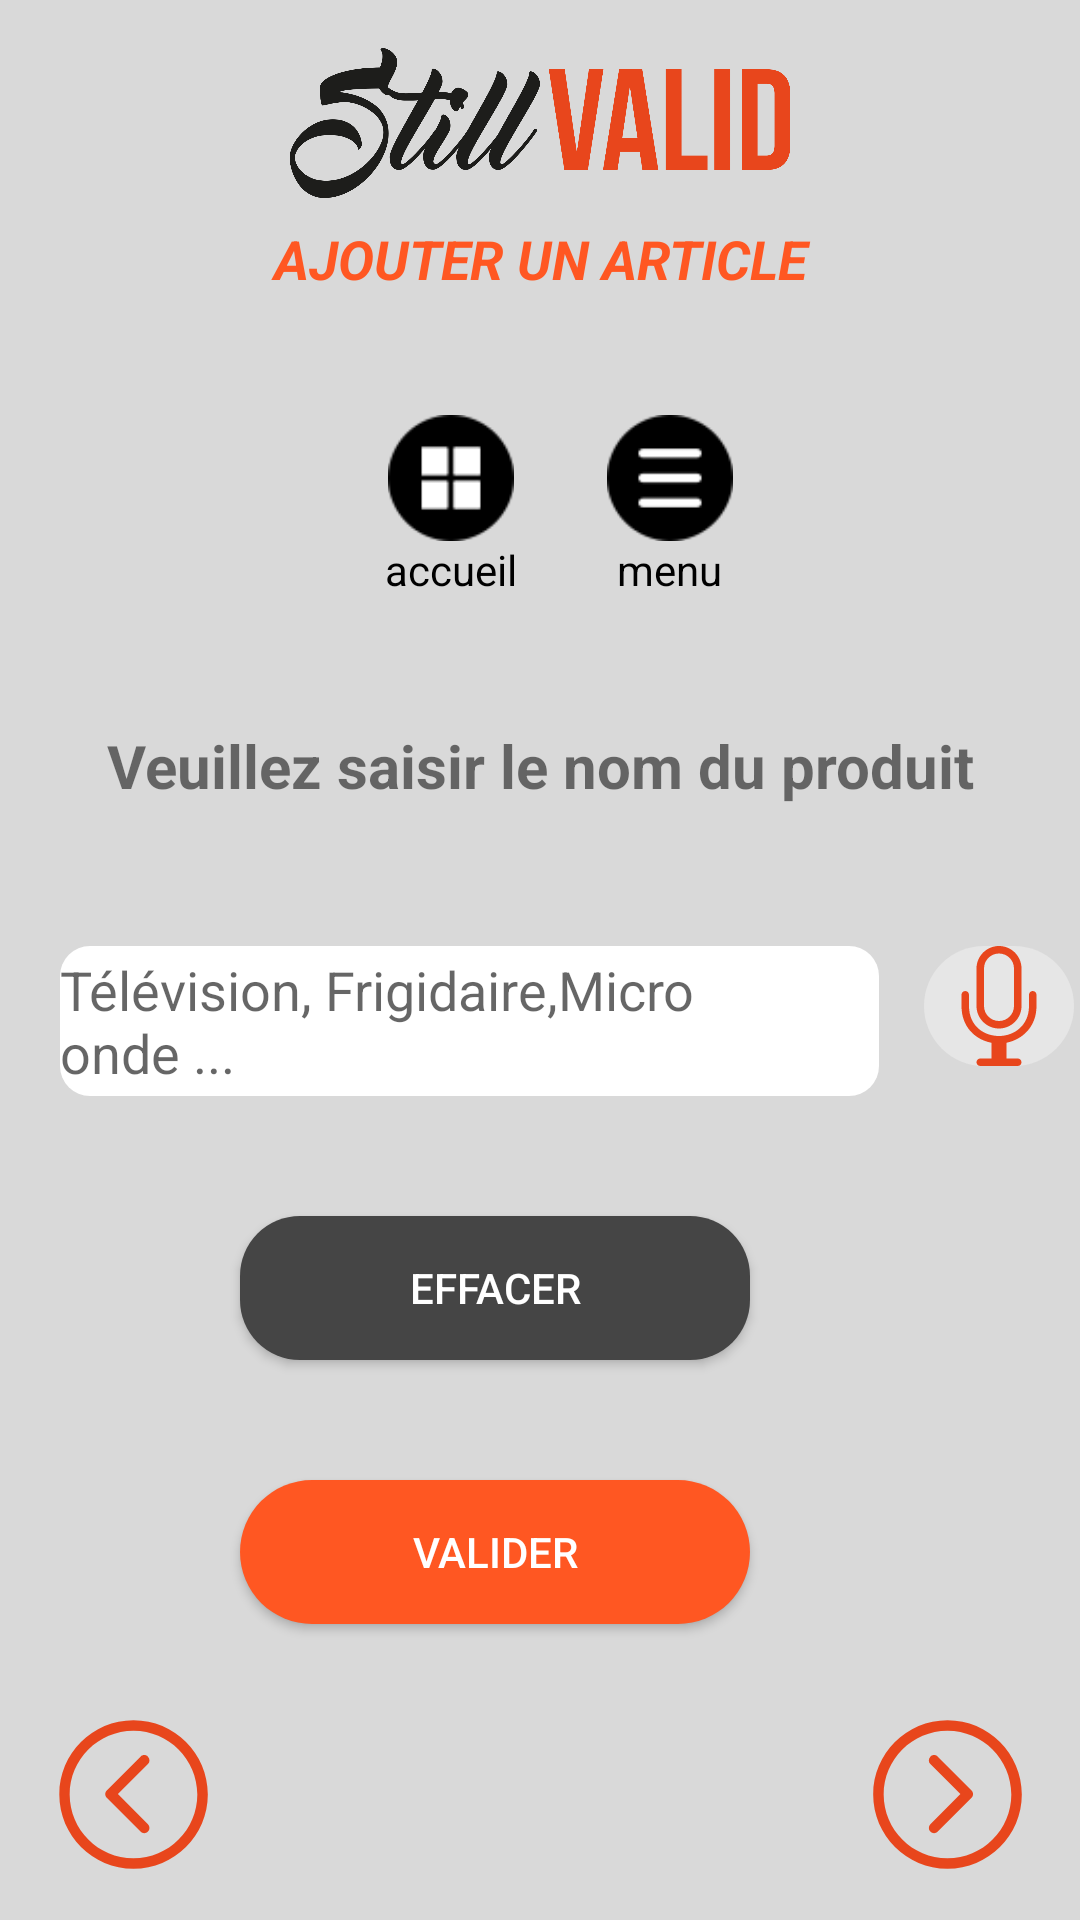

Screen size 1080w x 1920h. Icon name, then its box in pixels as (x1, y1, x2, y2):
left: (59, 1720, 208, 1869)
microphone: (924, 946, 1074, 1066)
right: (873, 1720, 1022, 1869)
